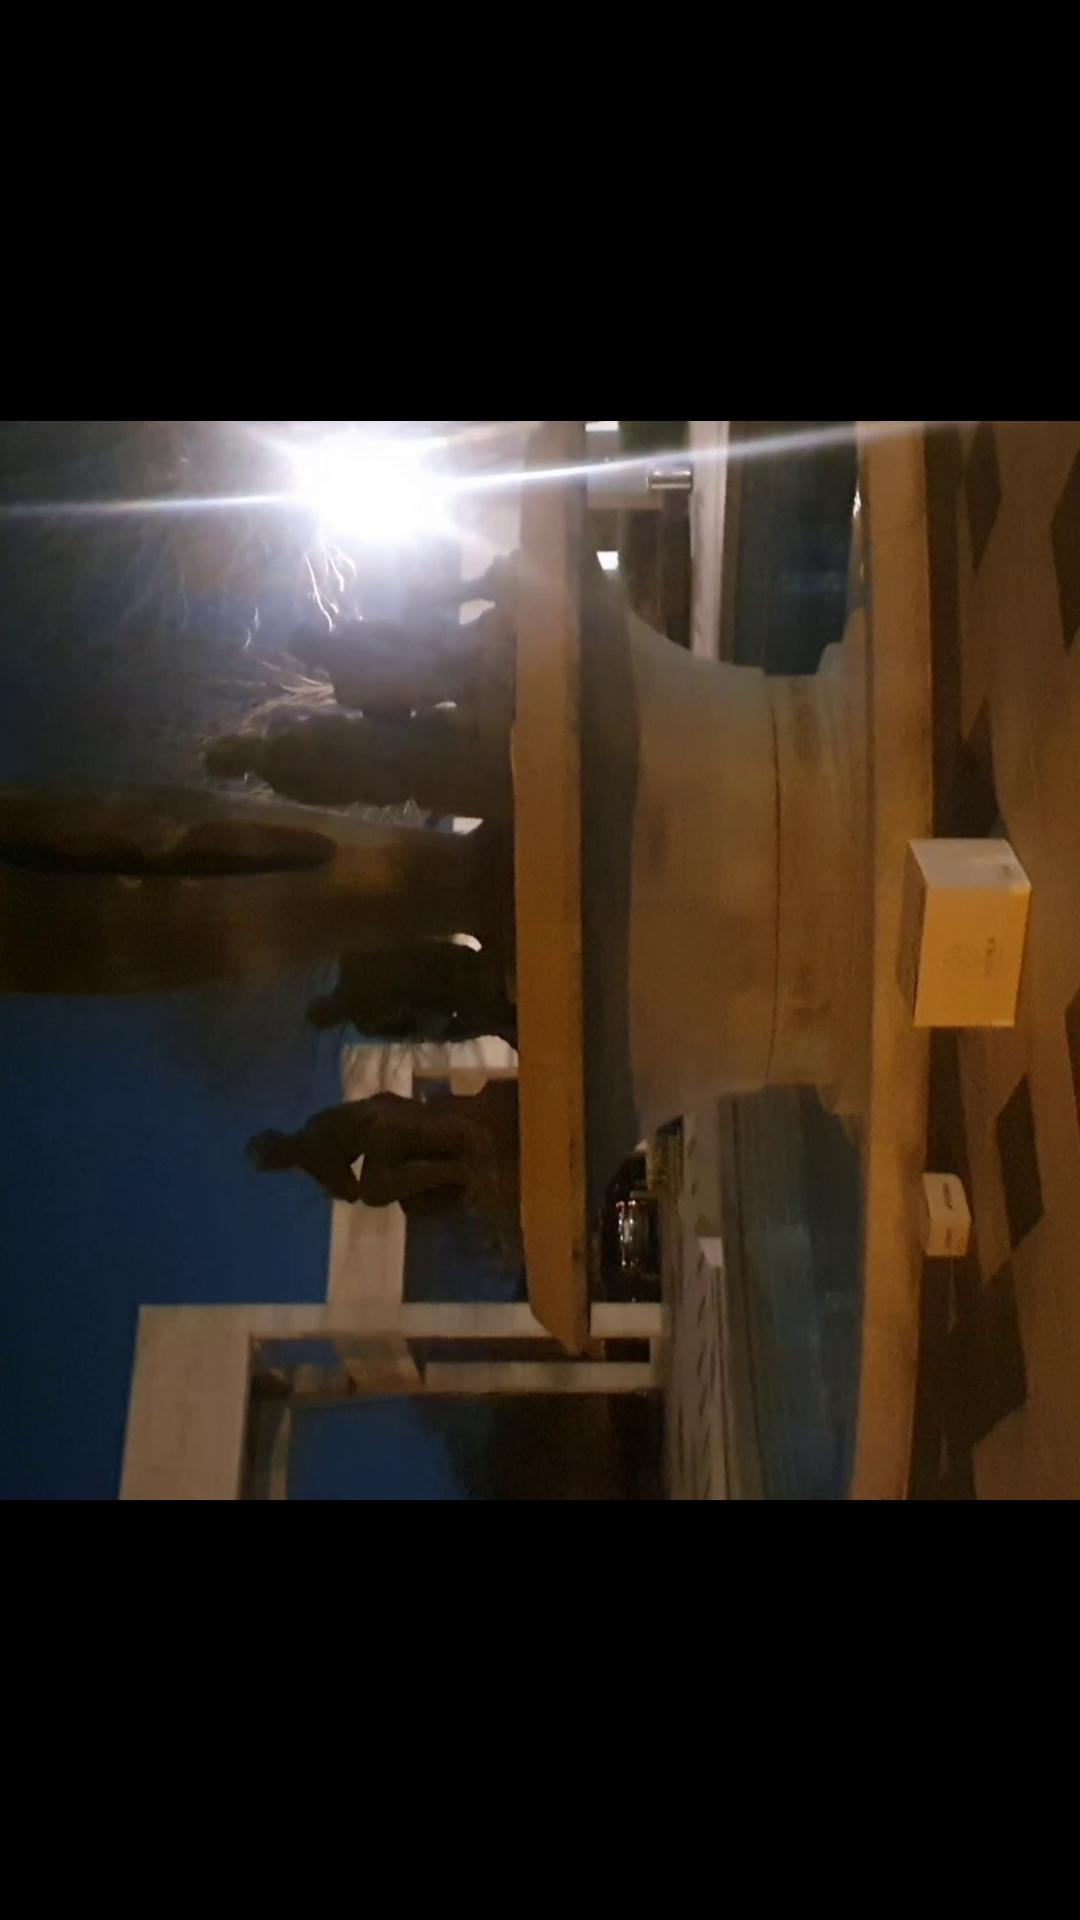Box: (895, 841, 1036, 1033), (910, 1164, 980, 1251)
